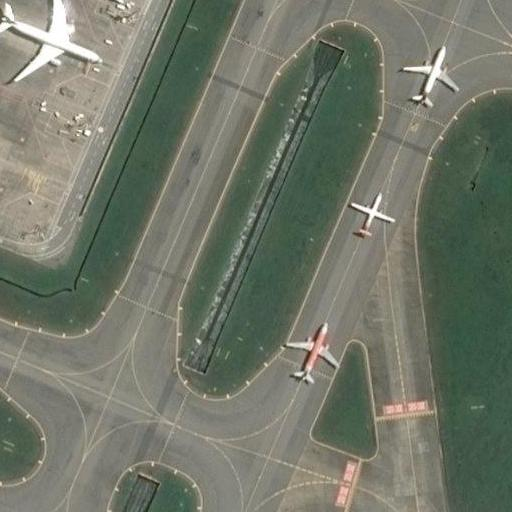Aircraft: (0, 0, 103, 84), (398, 39, 459, 108), (282, 317, 342, 386), (346, 188, 395, 239)
